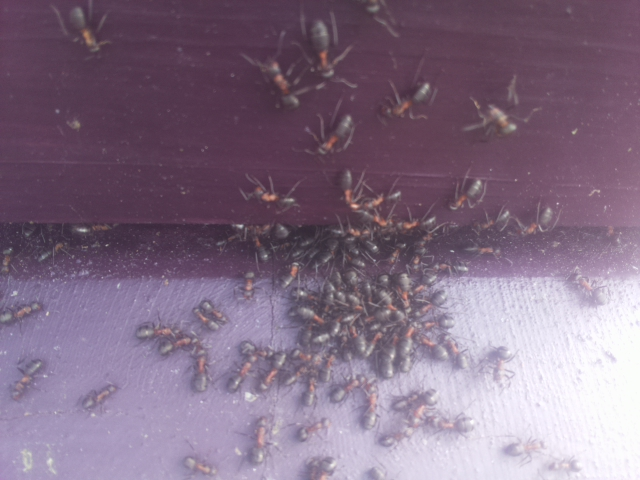ant: (374, 65, 441, 134), (250, 44, 308, 122), (328, 165, 390, 227), (57, 0, 115, 64), (298, 10, 342, 92), (461, 90, 523, 147), (310, 105, 360, 160), (144, 320, 200, 364), (6, 354, 48, 406), (510, 201, 562, 241), (185, 294, 232, 337), (442, 169, 489, 211), (223, 347, 260, 400), (74, 379, 124, 417), (128, 313, 182, 347), (241, 179, 304, 208), (325, 370, 373, 408), (0, 296, 52, 331), (357, 0, 403, 38), (243, 415, 277, 464), (410, 327, 455, 363), (291, 413, 338, 447), (569, 269, 609, 306), (297, 449, 343, 480), (176, 451, 225, 480), (487, 342, 515, 387), (188, 349, 212, 399), (258, 350, 287, 391), (503, 436, 549, 461), (391, 385, 435, 411), (247, 224, 275, 264), (443, 335, 472, 373), (426, 412, 478, 433), (393, 268, 415, 312), (278, 258, 308, 290), (396, 335, 418, 378), (361, 382, 380, 430), (238, 267, 257, 304), (301, 376, 318, 407)
